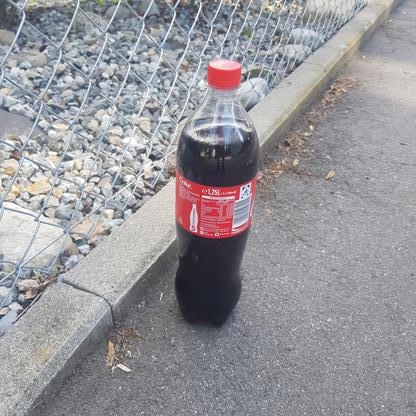coca-cola: (173, 58, 261, 330)
